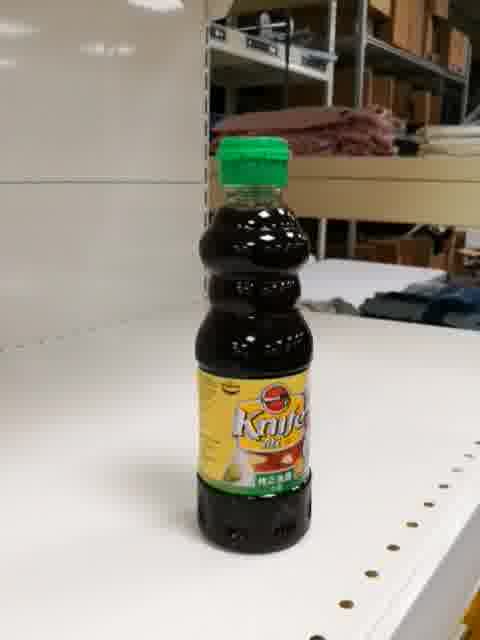cookingoil: (193, 133, 315, 558)
